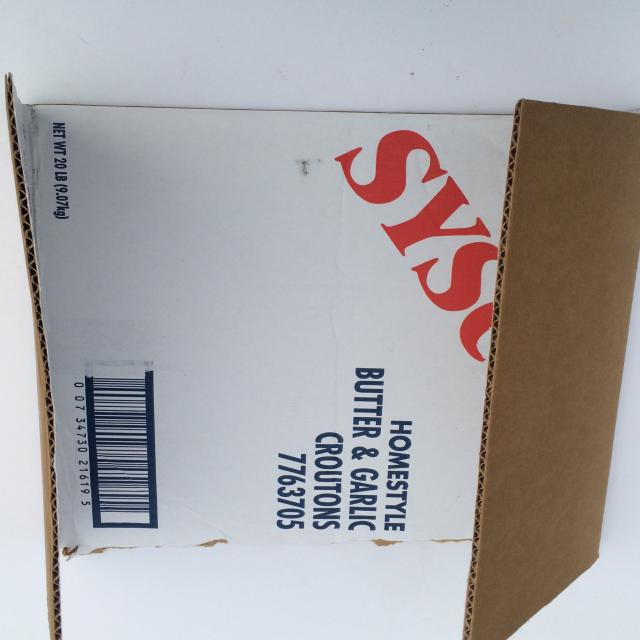cardboard: (2, 72, 640, 640)
